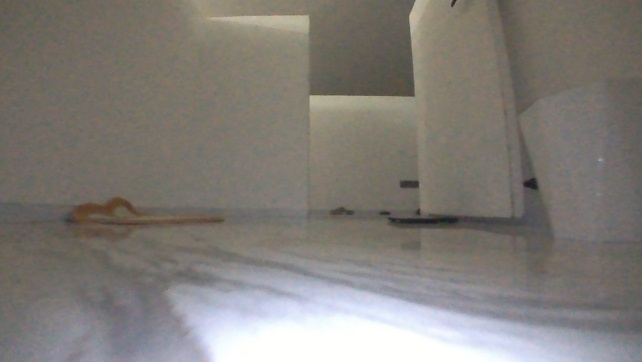blanket: (64, 194, 246, 230)
door_anno: (395, 2, 539, 227)
toilet: (515, 80, 642, 240)
